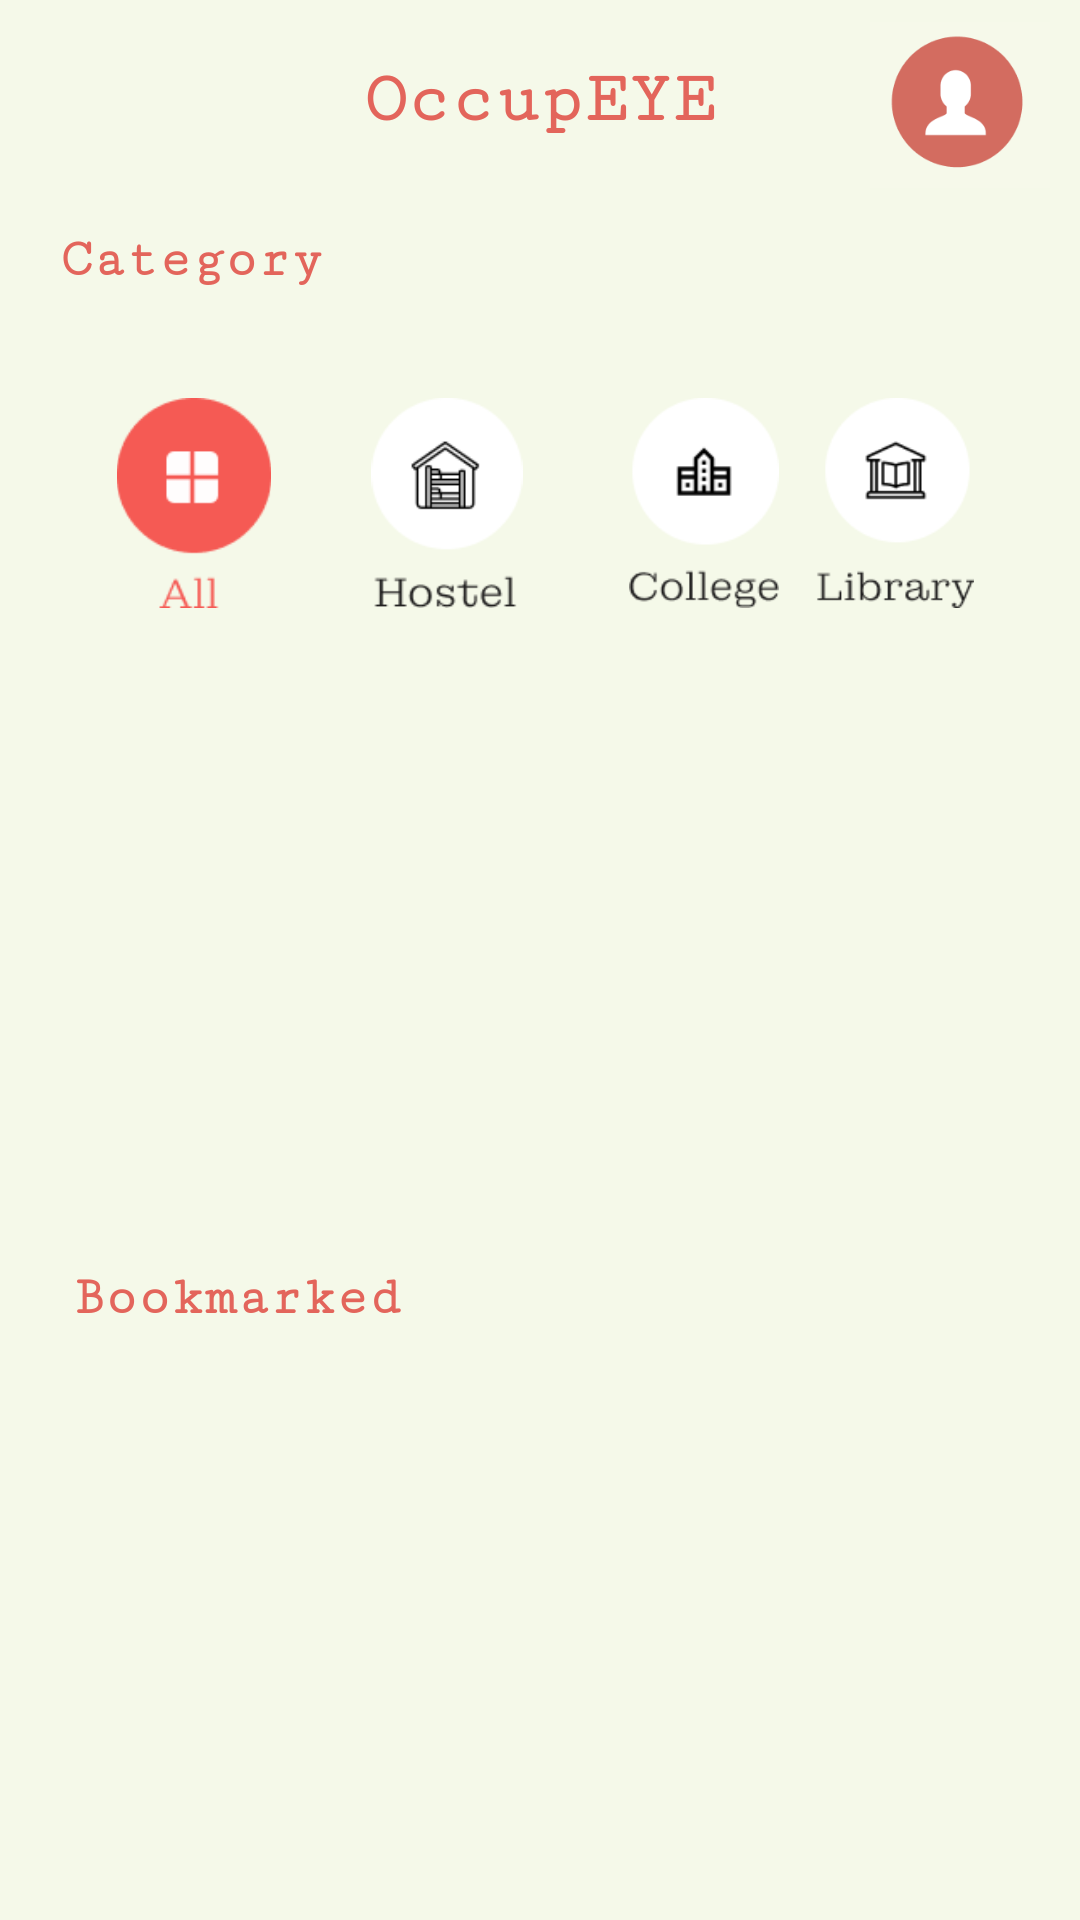

Screen size 1080px×1920px. Icon name, then its box in pixels as detection(x1, y1, x2, y2):
user: detection(891, 36, 1023, 168)
